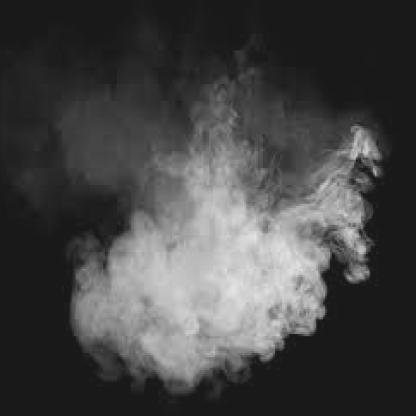smoke: (57, 126, 384, 383)
